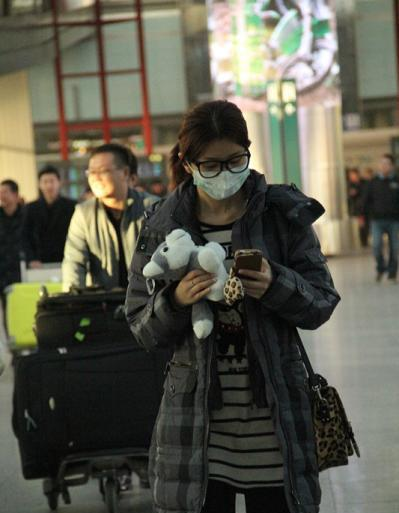NONE: (89, 164, 118, 197), (40, 176, 60, 198), (1, 188, 16, 206)
OK: (198, 148, 248, 198)
